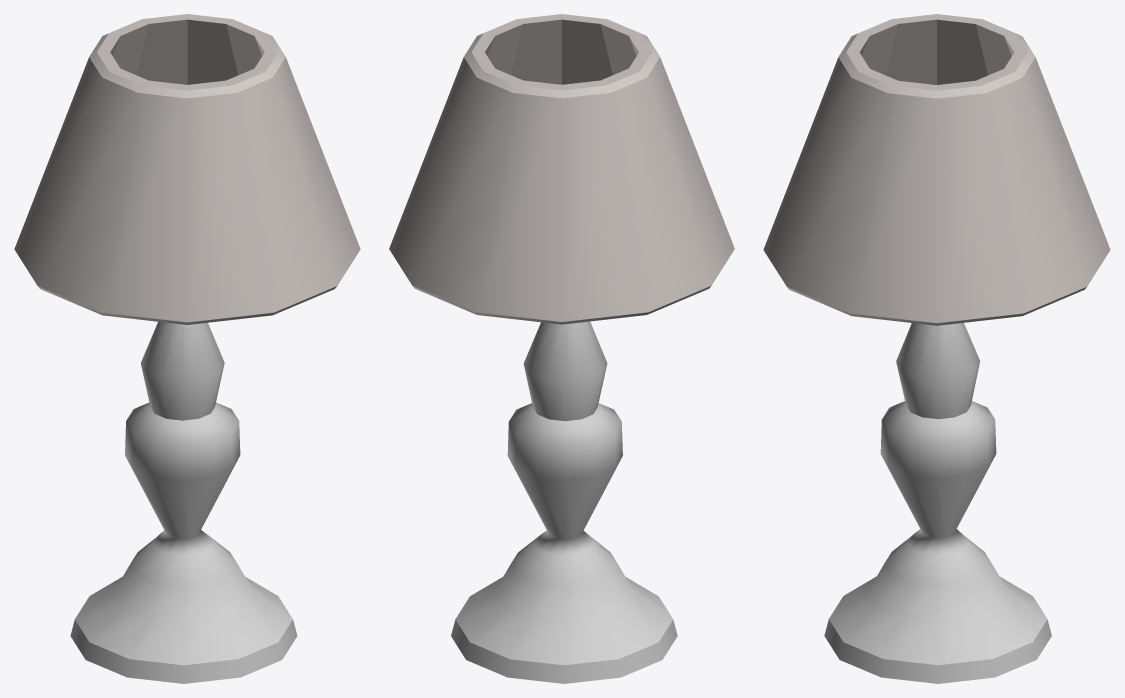
File: Lamp_Como.fbx
3 renders of one model, left to right at view 1: azimuth 30°, elevation 25°; view 2: azimuth 150°, elevation 25°; view 3: azimuth 270°, elevation 25°, orthographic.
Visible parts, largest first — view 1: Lamp_Como; view 2: Lamp_Como; view 3: Lamp_Como.
Boxes of the visible parts, left/top/right/bottom form: Lamp_Como: left=14, top=14, right=360, bottom=683; Lamp_Como: left=389, top=14, right=734, bottom=683; Lamp_Como: left=763, top=14, right=1110, bottom=683.
Bounding box in the file's own units: 28.33 × 52.67 × 28.33.
